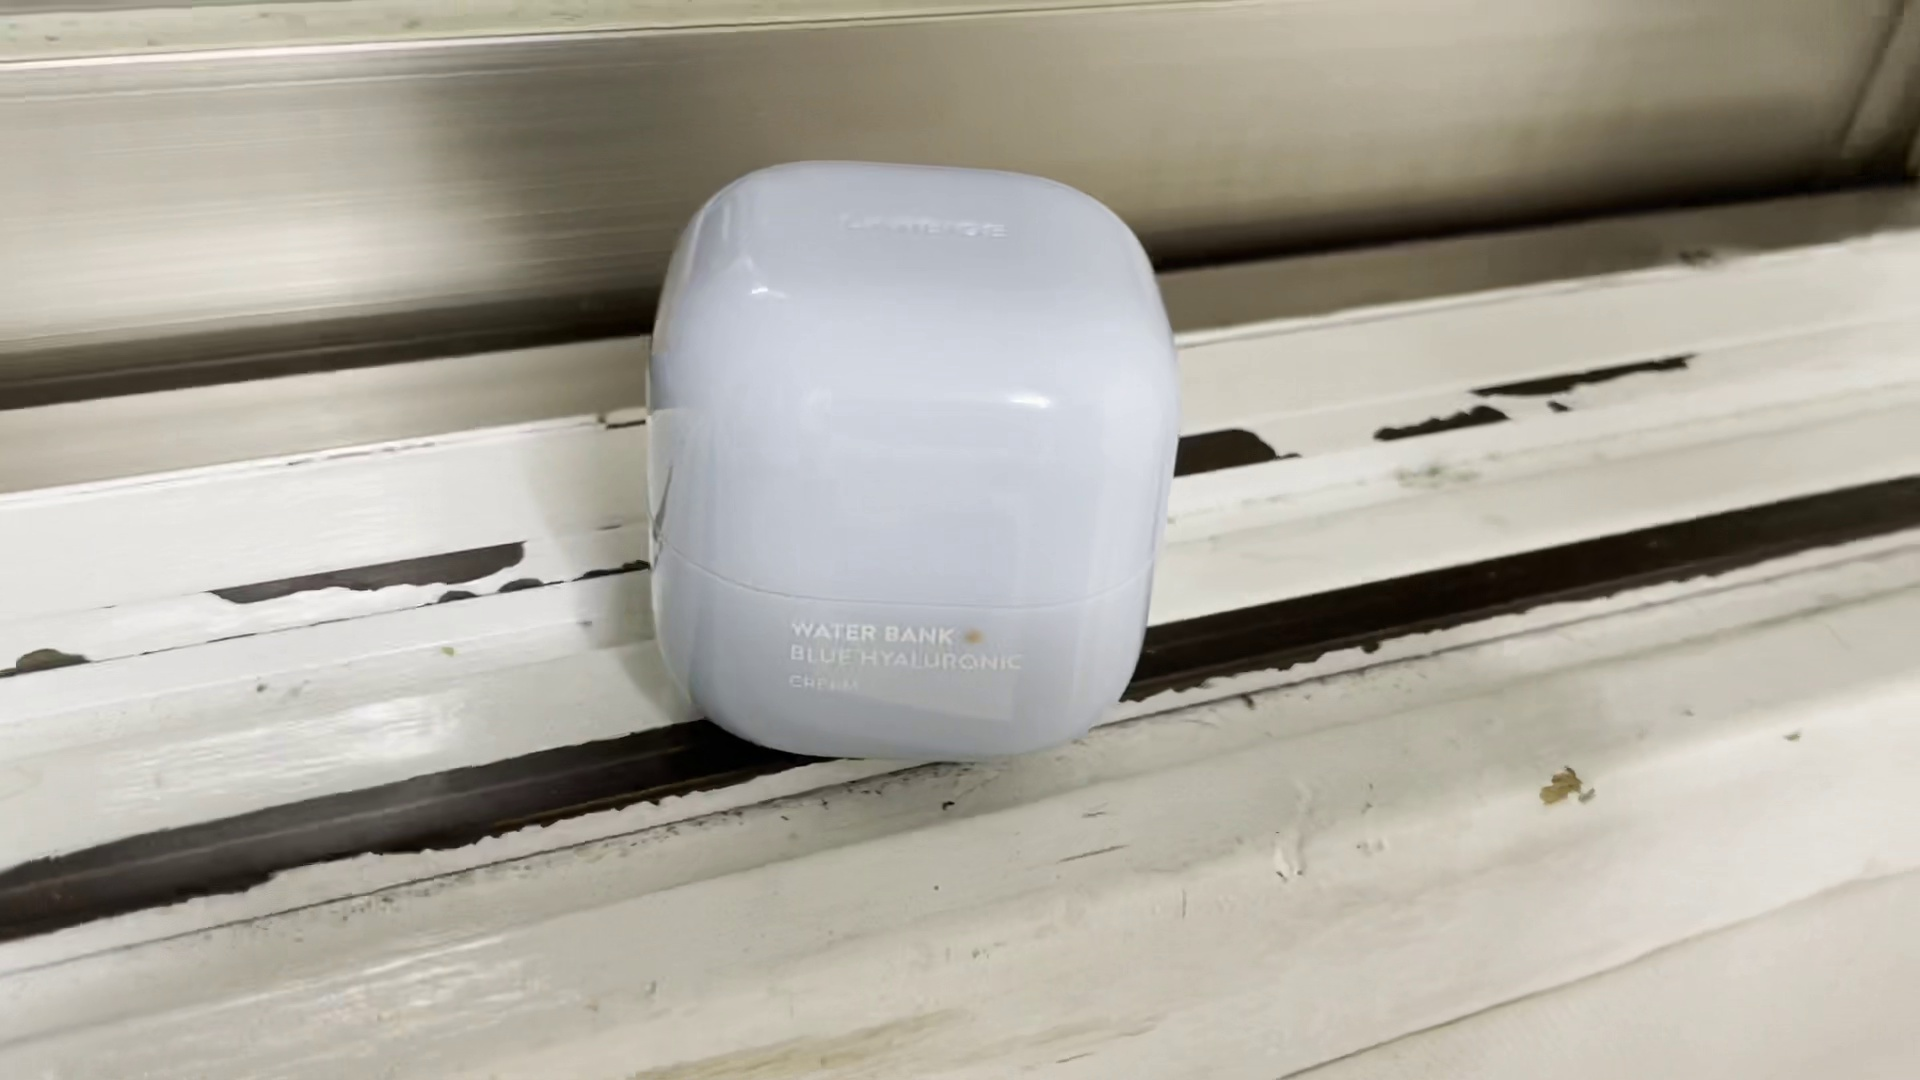cream: (659, 160, 1175, 760)
